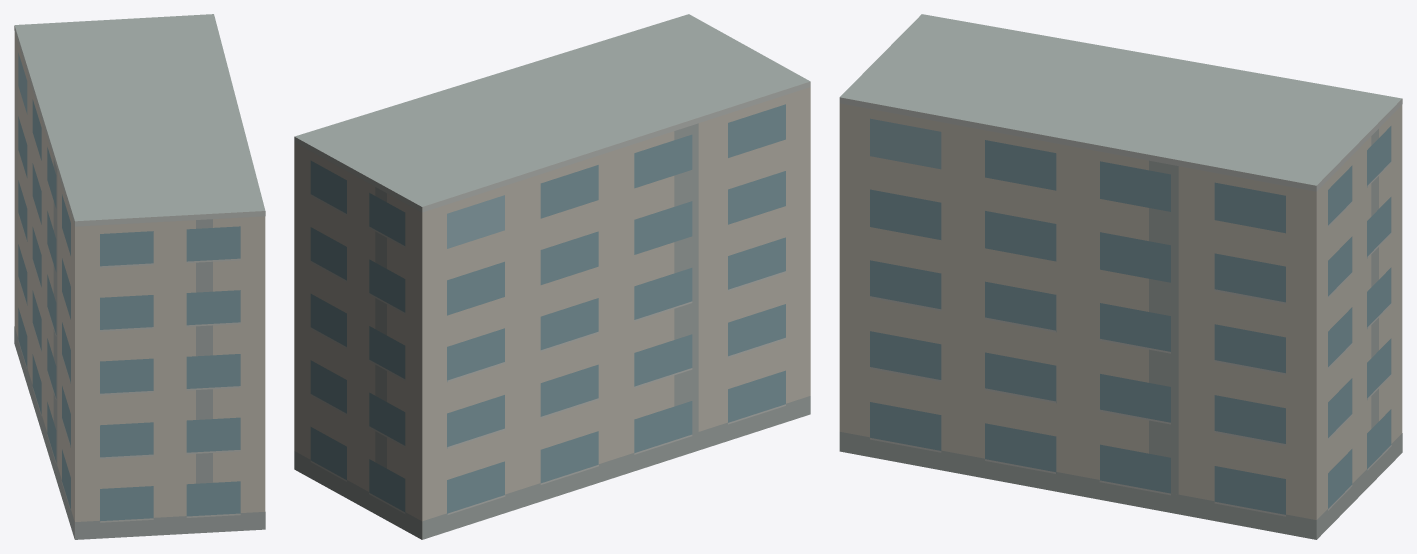
File: survey-upis-32566000.glb
The picture shows the model from 3 angles, left to right: view 1: azimuth 30°, elevation 25°; view 2: azimuth 150°, elevation 25°; view 3: azimuth 270°, elevation 25°; orthographic projection. The views are drawn at different scales.
Parts seen in each view (by area): view 1: survey-upis-32566000.tmp; view 2: survey-upis-32566000.tmp; view 3: survey-upis-32566000.tmp.
Part boxes in pixels (x1,y1,x2,y2): survey-upis-32566000.tmp: (14,14,265,539); survey-upis-32566000.tmp: (294,14,810,539); survey-upis-32566000.tmp: (839,14,1402,539).
Size of the model in its own units: 15.04 by 14.45 by 20.82.
